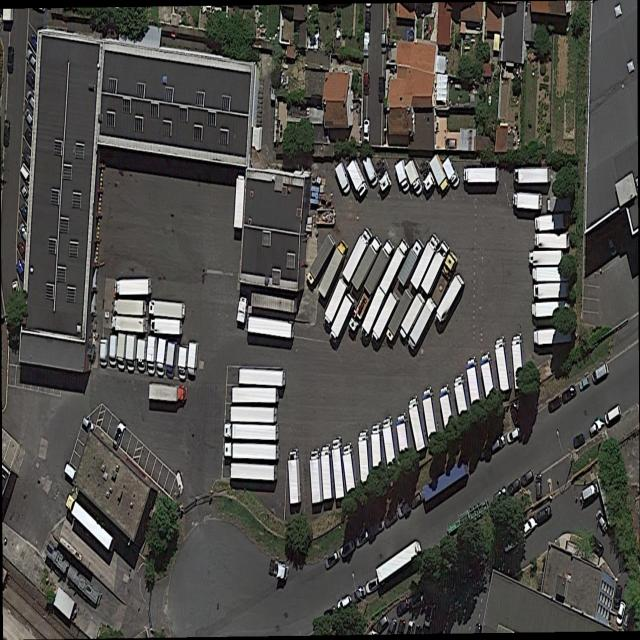large-vehicle: (65, 493, 113, 550), (376, 538, 422, 583), (317, 237, 348, 298), (410, 231, 441, 291), (351, 235, 383, 291), (342, 226, 373, 283), (370, 287, 400, 345), (364, 239, 395, 295), (379, 238, 410, 294), (407, 295, 437, 352), (434, 272, 465, 326), (421, 238, 450, 295), (430, 249, 459, 306), (385, 287, 414, 342), (306, 232, 336, 285), (328, 291, 355, 344), (360, 285, 386, 340), (397, 236, 425, 287), (399, 291, 426, 339), (323, 276, 348, 327), (407, 394, 428, 451), (348, 285, 372, 333), (330, 435, 347, 499), (421, 386, 440, 443), (224, 441, 280, 460), (494, 335, 512, 393), (381, 415, 399, 473), (224, 422, 279, 440), (465, 356, 483, 406), (510, 333, 526, 389), (341, 442, 358, 494), (429, 152, 450, 194), (479, 352, 497, 400), (347, 157, 368, 198), (320, 443, 335, 500), (438, 383, 456, 430), (287, 448, 302, 504), (309, 448, 324, 504), (357, 429, 372, 485), (395, 412, 412, 460), (148, 382, 187, 402), (453, 373, 470, 417), (534, 326, 572, 345), (112, 313, 148, 333), (149, 299, 186, 318), (405, 158, 423, 197), (114, 277, 152, 295), (514, 166, 551, 184), (234, 169, 245, 229), (370, 422, 384, 467), (533, 281, 570, 298), (531, 300, 567, 317), (442, 156, 460, 190), (464, 166, 499, 183), (535, 213, 567, 231), (534, 232, 570, 248), (532, 266, 570, 281), (150, 317, 183, 334), (114, 298, 147, 315), (335, 160, 351, 195), (155, 336, 168, 377), (362, 154, 378, 187), (529, 250, 564, 265), (395, 159, 410, 193), (513, 192, 542, 209), (165, 340, 177, 379), (125, 333, 137, 371), (135, 336, 148, 371), (146, 335, 157, 375), (187, 340, 199, 376), (116, 332, 127, 370), (177, 345, 189, 379), (547, 197, 572, 212), (109, 334, 118, 366)
small-vehicle: (25, 68, 41, 95), (111, 422, 126, 450), (25, 47, 41, 73), (25, 87, 40, 112), (535, 505, 551, 528), (521, 515, 536, 539), (604, 404, 621, 425), (589, 534, 605, 556), (22, 146, 36, 171), (561, 385, 576, 408), (592, 363, 609, 383), (20, 162, 34, 186), (23, 106, 37, 130), (340, 538, 354, 562), (15, 259, 28, 284), (19, 182, 32, 207), (20, 204, 33, 228), (595, 508, 608, 532), (28, 32, 42, 54), (385, 508, 399, 530), (376, 613, 390, 635), (337, 593, 352, 613), (24, 127, 37, 149), (616, 599, 627, 625), (351, 586, 366, 605), (589, 418, 603, 438), (18, 240, 30, 263), (325, 551, 338, 572), (356, 529, 369, 550), (508, 477, 521, 498), (582, 483, 598, 500), (492, 487, 507, 505), (613, 583, 623, 610), (365, 576, 379, 595), (548, 395, 561, 415), (369, 520, 385, 536), (490, 435, 505, 452), (398, 500, 412, 518), (324, 605, 338, 623), (11, 280, 21, 305), (506, 426, 521, 442), (80, 416, 94, 433), (521, 469, 534, 487), (396, 600, 409, 618), (578, 374, 591, 392), (3, 119, 11, 148), (19, 222, 30, 243), (100, 339, 109, 364), (410, 492, 423, 509), (363, 31, 371, 57), (362, 71, 371, 94), (573, 433, 586, 448), (7, 47, 14, 74), (380, 31, 388, 54), (378, 75, 385, 101), (536, 475, 543, 500), (445, 138, 457, 150), (365, 10, 371, 32), (363, 121, 369, 142)
